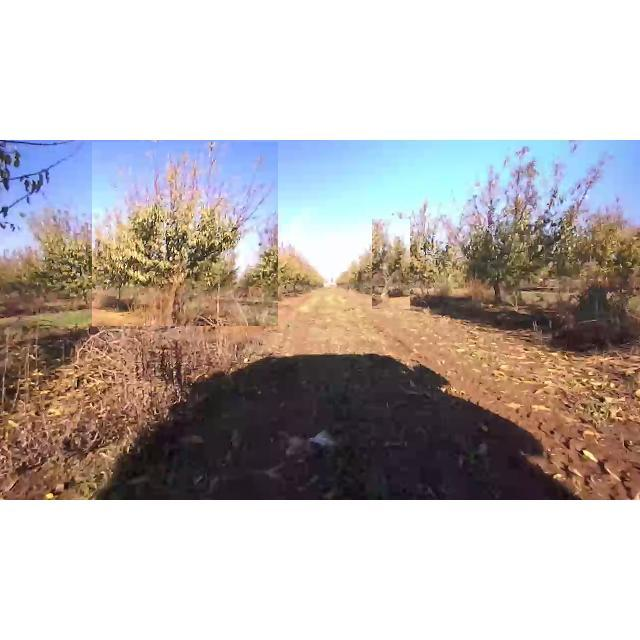tree: (92, 142, 278, 326), (460, 142, 604, 314), (24, 199, 116, 309), (398, 194, 456, 302), (228, 210, 274, 302), (372, 219, 410, 309)
